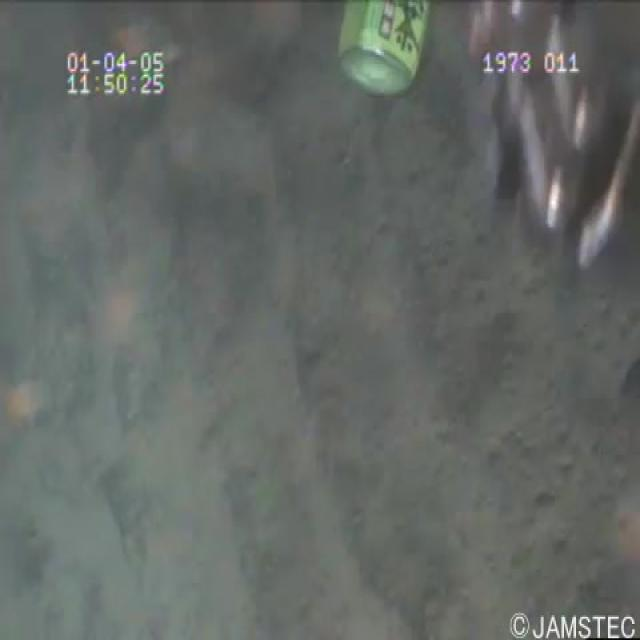plastic: (329, 0, 441, 108)
